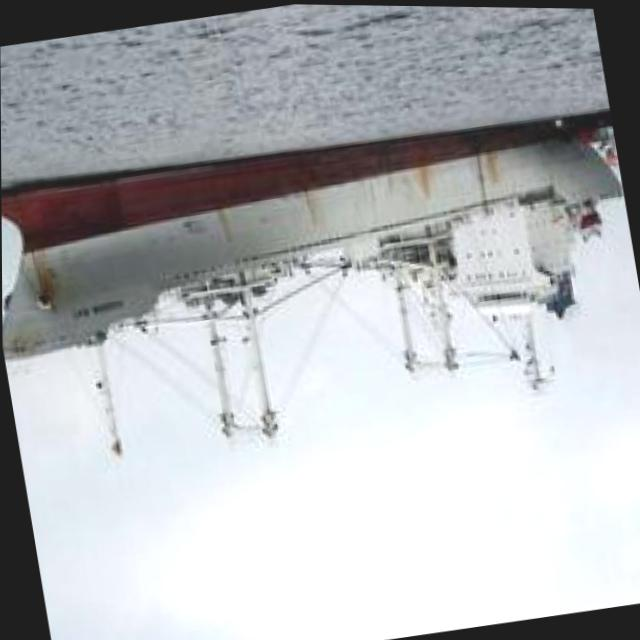ship2: (1, 114, 624, 459)
